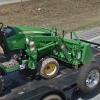Tractor: (12, 10, 100, 100)
